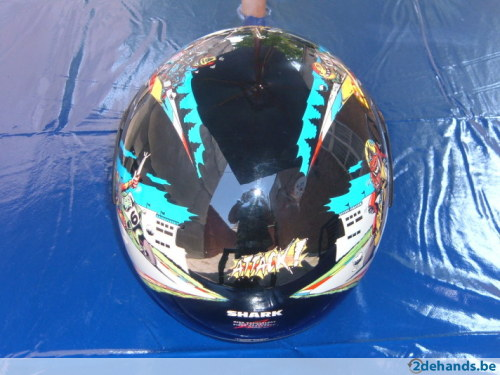helmet: (116, 37, 402, 308)
